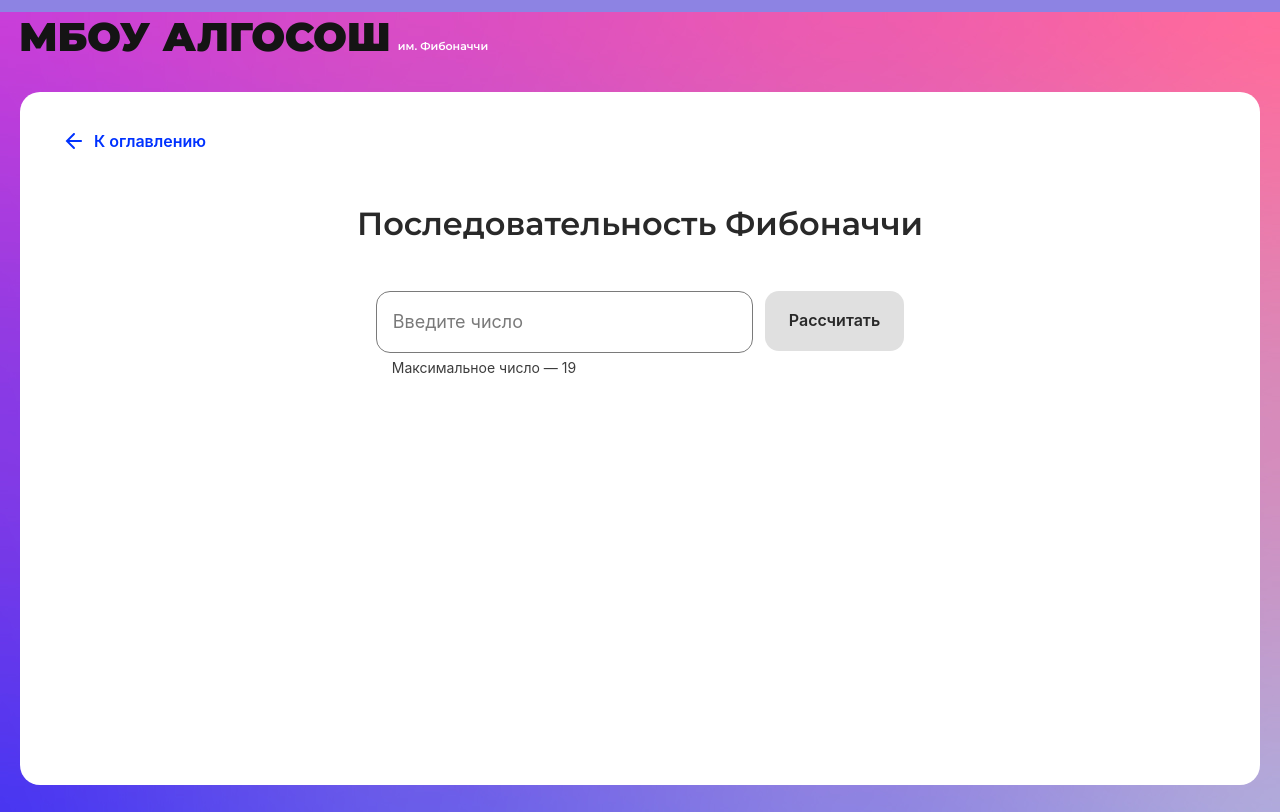
Scenario: Fibonacci Page › generates Fibonacci numbers correctly
The width and height of the screenshot is (1280, 812).
Type "5" into the number field with test id "input" at (565, 322), box [376,291,753,353]
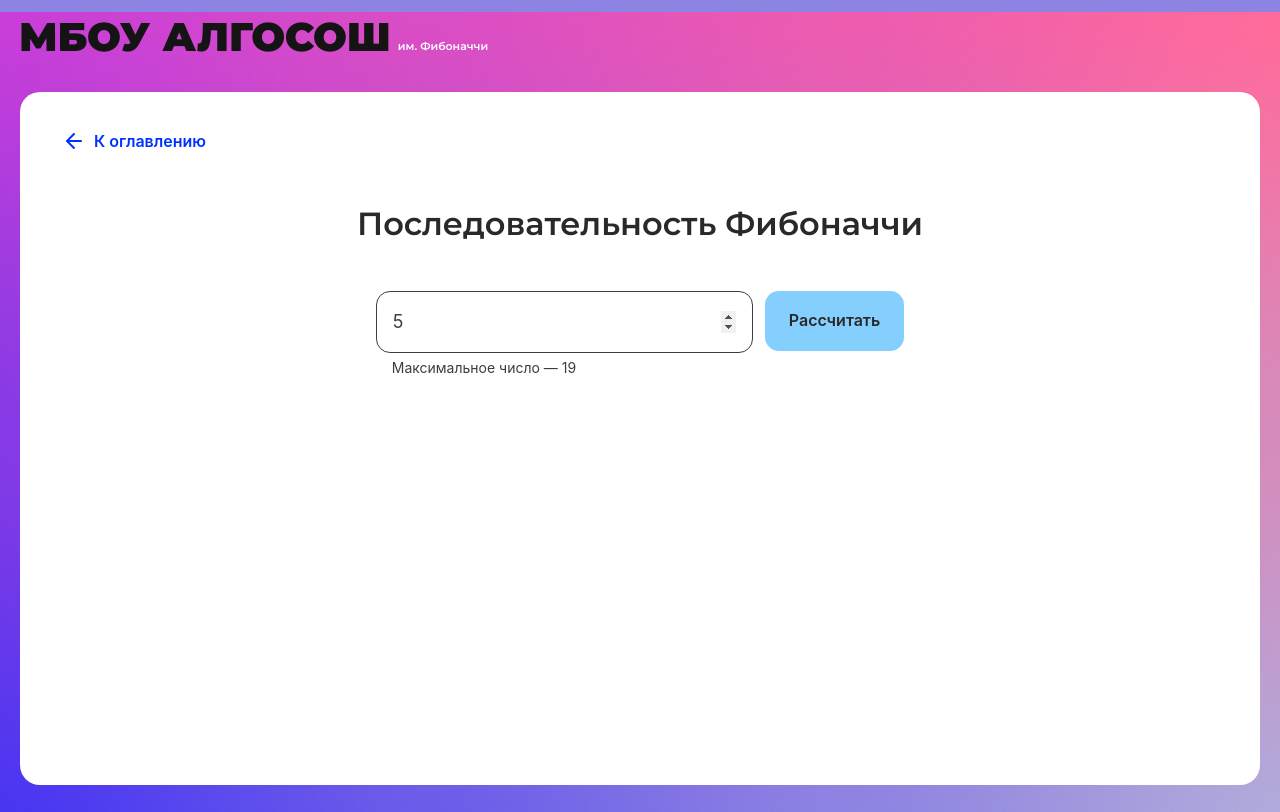
Click the button with test id "calculate-button" at (835, 321), box [765,291,904,351]
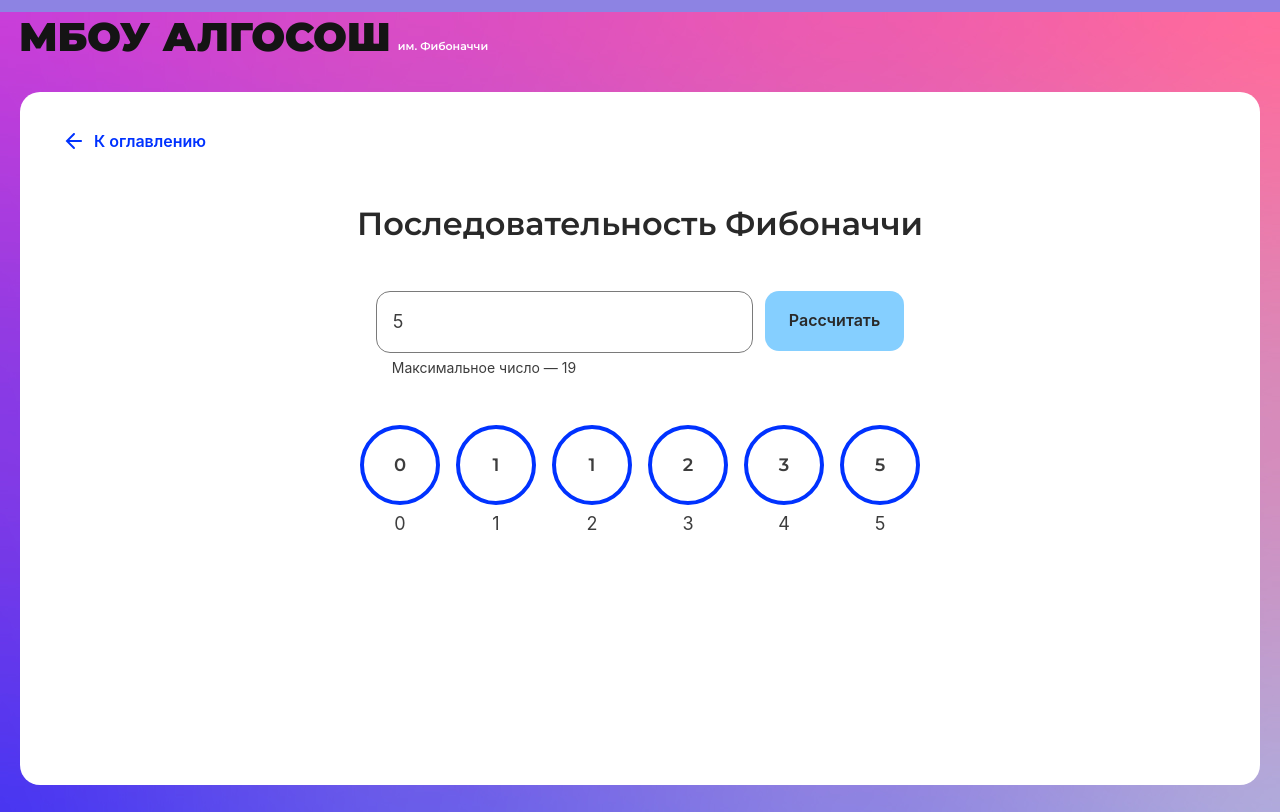
Expected: the number of elements with test id "circle" is 6, [360,425,440,505]; [456,425,536,505]; [552,425,632,505]; [648,425,728,505]; [744,425,824,505]; [840,425,920,505]
